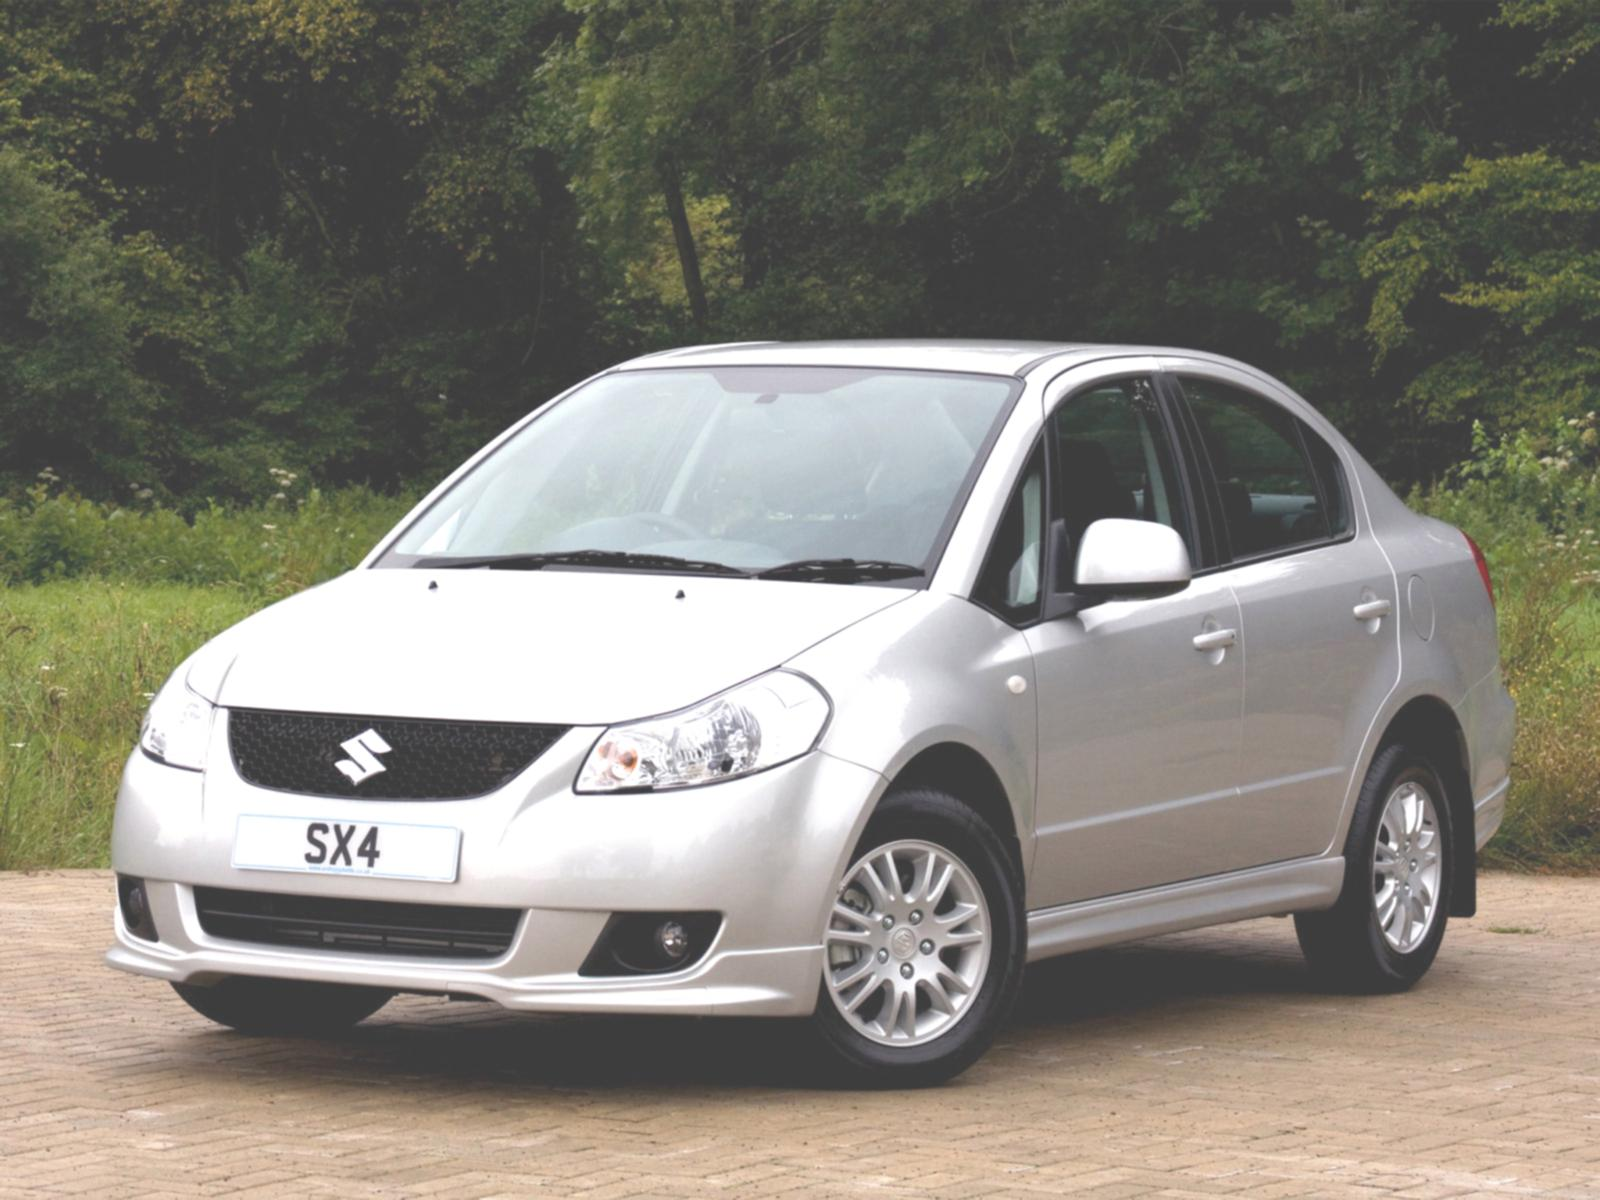suzuki: (315, 723, 423, 794)
